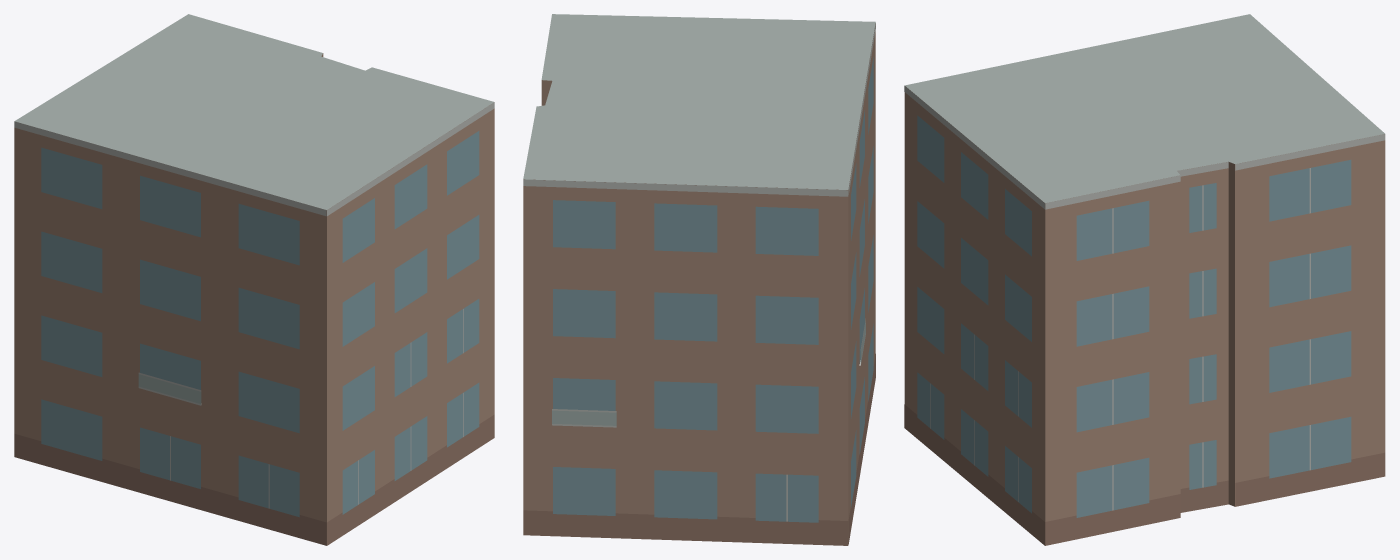
Rendered from survey-upis-32741663.glb.
3 renders of one model, left to right at view 1: azimuth 30°, elevation 25°; view 2: azimuth 150°, elevation 25°; view 3: azimuth 270°, elevation 25°, orthographic. The views are drawn at different scales.
Parts seen in each view (by area): view 1: survey-upis-32741663.tmp; view 2: survey-upis-32741663.tmp; view 3: survey-upis-32741663.tmp.
Boxes of the visible parts, x1=… form: survey-upis-32741663.tmp: x1=14, y1=14, x2=494, y2=545; survey-upis-32741663.tmp: x1=523, y1=14, x2=875, y2=545; survey-upis-32741663.tmp: x1=904, y1=14, x2=1385, y2=545.
Bounding box in the file's own units: 15.41 × 13 × 16.54.
